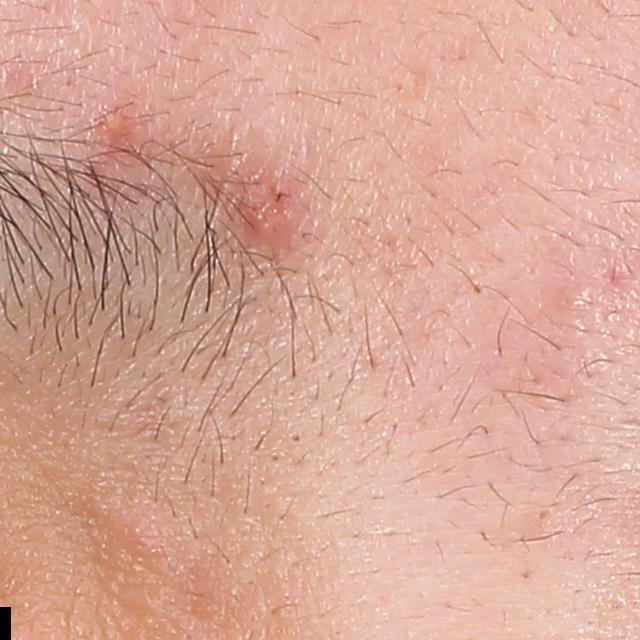comedo: (535, 505, 553, 522)
papule: (242, 189, 291, 246)
